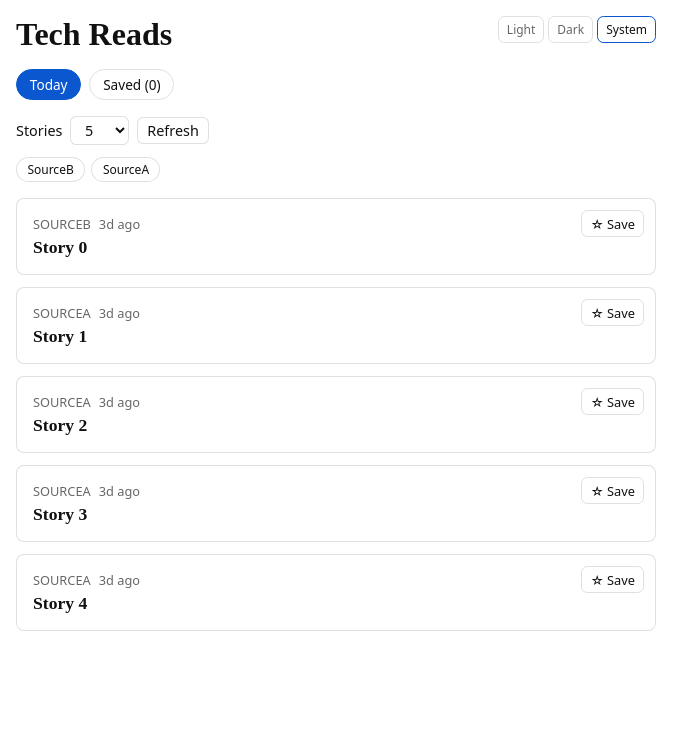
Test case: App › updates the visible count and persists it when the setting changes, without refetching
Select "10" in the dropdown at (100, 130), box [70,116,129,145]
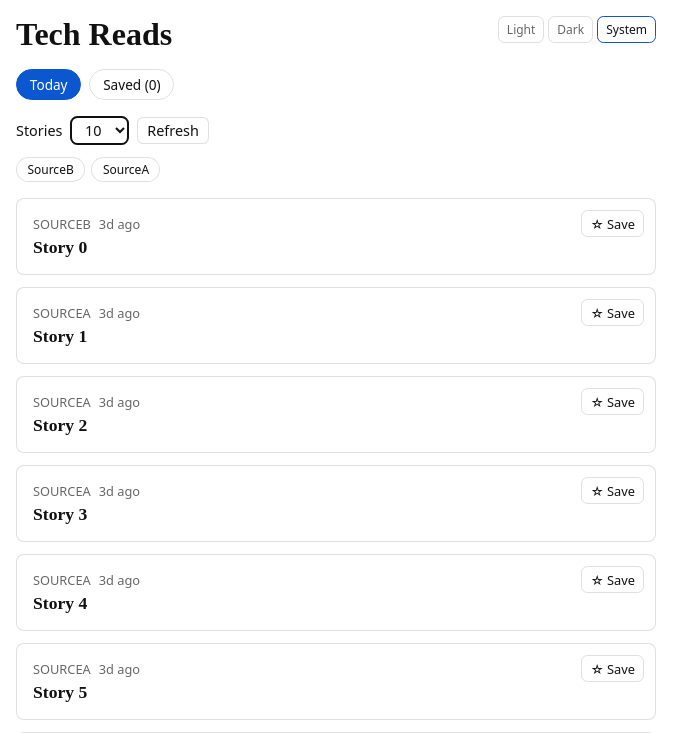
Now the number of list items is 10
